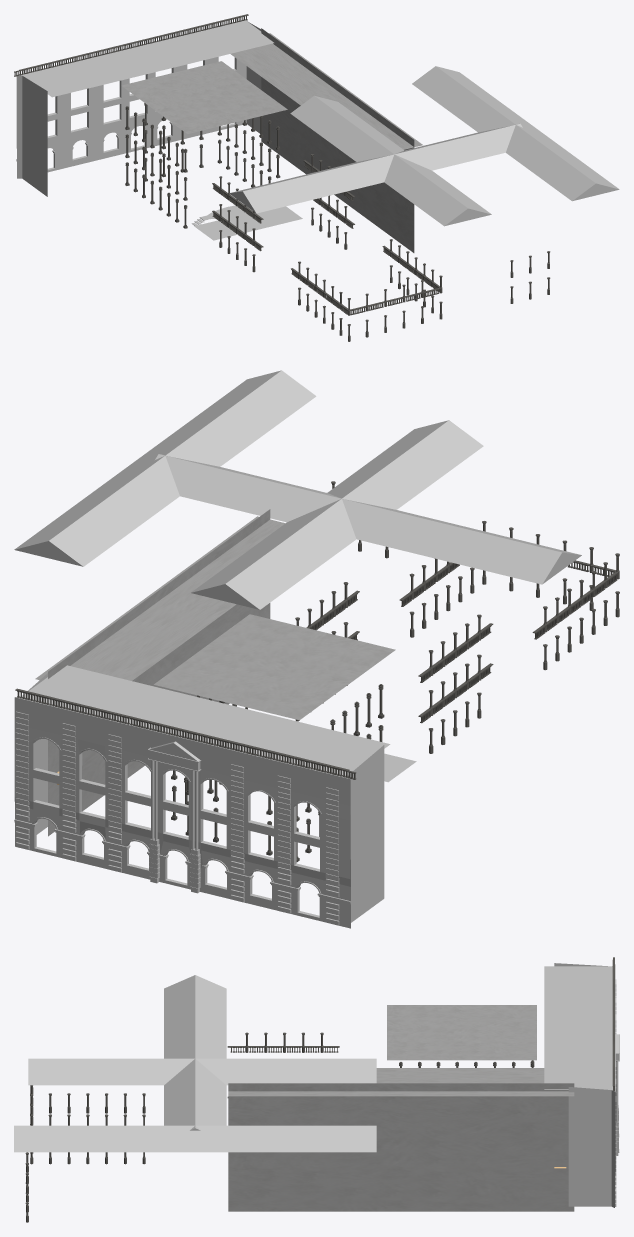
File: 26_04_2020_complementos.fbx
The picture shows the model from 3 angles, top to bottom: view 1: azimuth 30°, elevation 25°; view 2: azimuth 150°, elevation 25°; view 3: azimuth 270°, elevation 25°; orthographic projection. The views are drawn at different scales.
Parts seen in each view (by area): view 1: claustro.002, Plane, Cube.030, Cube.058, Cube, claustro.003; view 2: Cube.030, claustro.002, Plane, Cube.058, Cube; view 3: Plane, claustro.002, Cube.030, Cube.058, Cube.
Part boxes in pixels (left/top/right/bottom): claustro.002: left=229, top=66, right=619, bottom=226; Plane: left=121, top=28, right=422, bottom=252; Cube.030: left=16, top=19, right=273, bottom=196; Cube.058: left=125, top=103, right=550, bottom=341; Cube: left=14, top=14, right=440, bottom=315; claustro.003: left=192, top=204, right=302, bottom=240; Cube.030: left=14, top=665, right=390, bottom=928; claustro.002: left=14, top=370, right=581, bottom=609; Plane: left=35, top=509, right=395, bottom=836; Cube.058: left=171, top=481, right=619, bottom=861; Cube: left=15, top=560, right=618, bottom=779; Plane: left=228, top=1005, right=574, bottom=1211; claustro.002: left=14, top=975, right=376, bottom=1152; Cube.030: left=544, top=963, right=619, bottom=1207; Cube.058: left=25, top=1032, right=534, bottom=1222; Cube: left=30, top=957, right=614, bottom=1125.
Bounding box in the file's own units: 12895 × 4287 × 17594.
